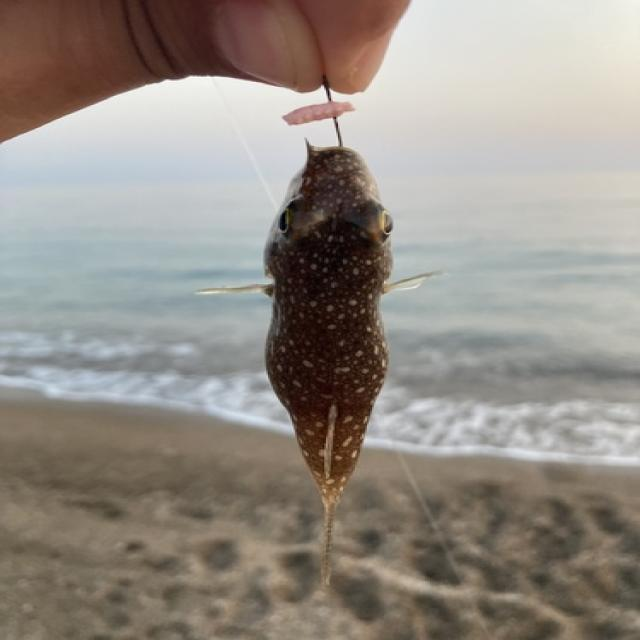Balik: (200, 145, 433, 584)
